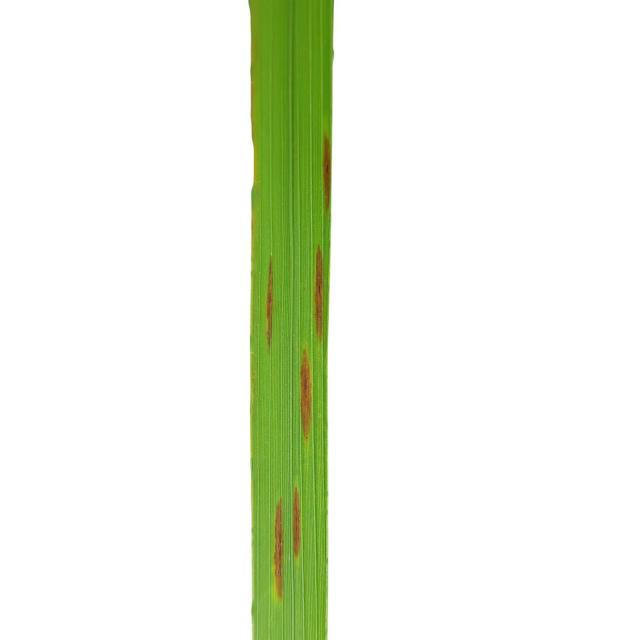Narrow brown: (238, 0, 398, 640)
